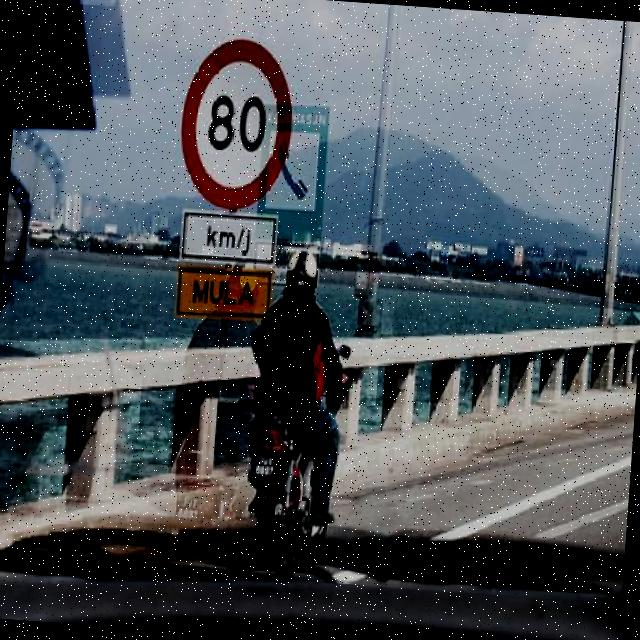Ograniczenie predkosci do 80: (172, 35, 300, 221)
